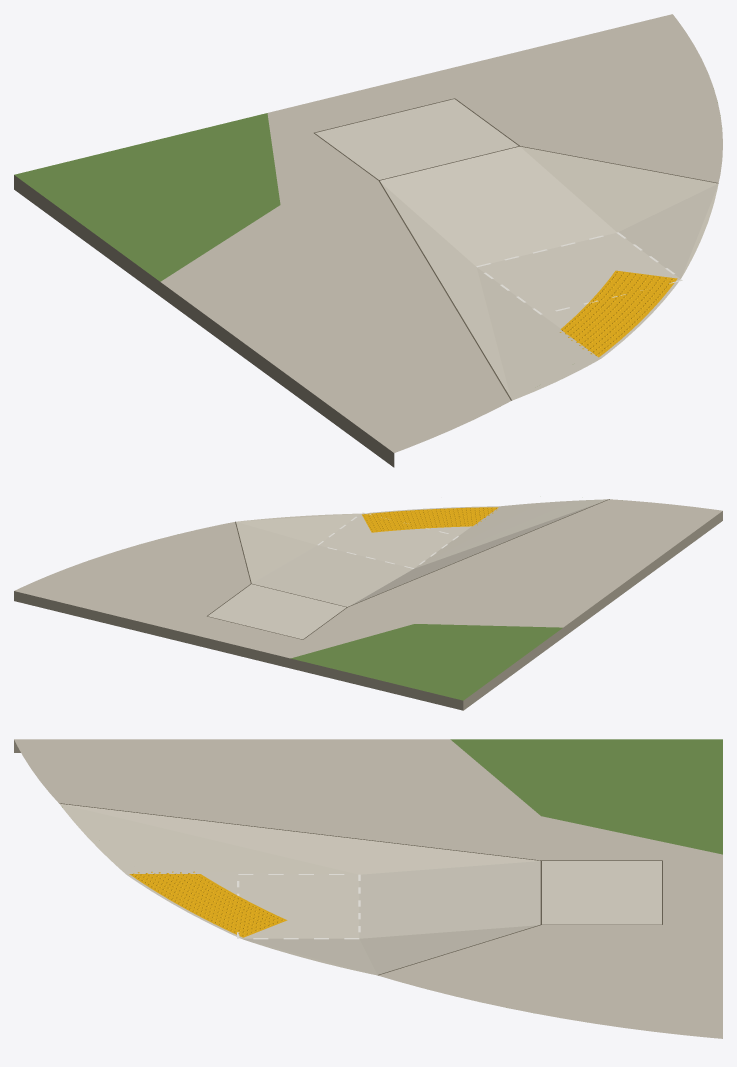
The model's file is ramp-422e.glb.
The picture shows the model from 3 angles, top to bottom: view 1: azimuth 30°, elevation 25°; view 2: azimuth 150°, elevation 25°; view 3: azimuth 270°, elevation 25°; orthographic projection. The views are drawn at different scales.
Visible parts, largest first — view 1: Seattle Type 422E: Directional ramp, set back, with wings; view 2: Seattle Type 422E: Directional ramp, set back, with wings; view 3: Seattle Type 422E: Directional ramp, set back, with wings.
Part boxes in pixels (<box>): Seattle Type 422E: Directional ramp, set back, with wings: <box>14,14,722,467</box>; Seattle Type 422E: Directional ramp, set back, with wings: <box>14,499,722,710</box>; Seattle Type 422E: Directional ramp, set back, with wings: <box>14,739,722,1038</box>.
Size of the model in its own units: 7.13 by 0.1554 by 7.13.
